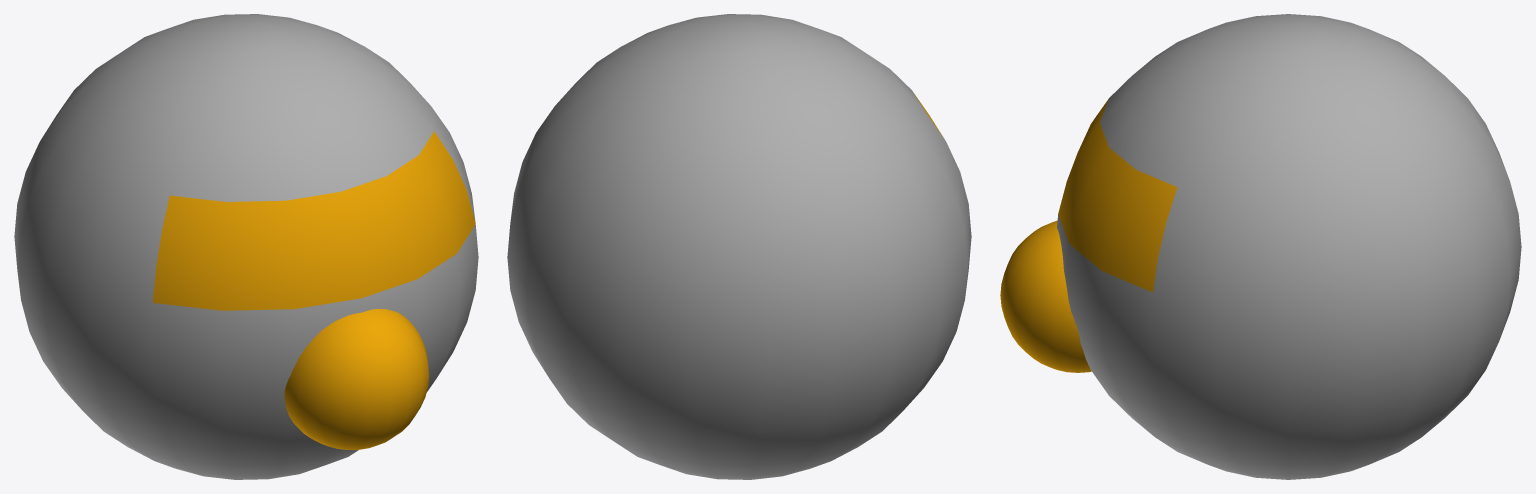
Rendered from Head_Placeholder.fbx.
The picture shows the model from 3 angles, left to right: view 1: azimuth 30°, elevation 25°; view 2: azimuth 150°, elevation 25°; view 3: azimuth 270°, elevation 25°; orthographic projection.
Parts seen in each view (by area): view 1: Head; view 2: Head; view 3: Head.
Boxes of the visible parts, left/top/right/bottom form: Head: left=14, top=14, right=478, bottom=479; Head: left=507, top=14, right=971, bottom=479; Head: left=1000, top=14, right=1521, bottom=479.
Size of the model in its own units: 30 by 30 by 33.53.
